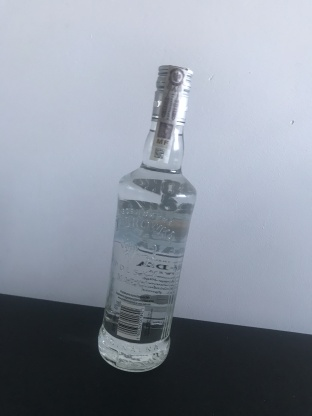nakretka: (148, 61, 195, 130)
